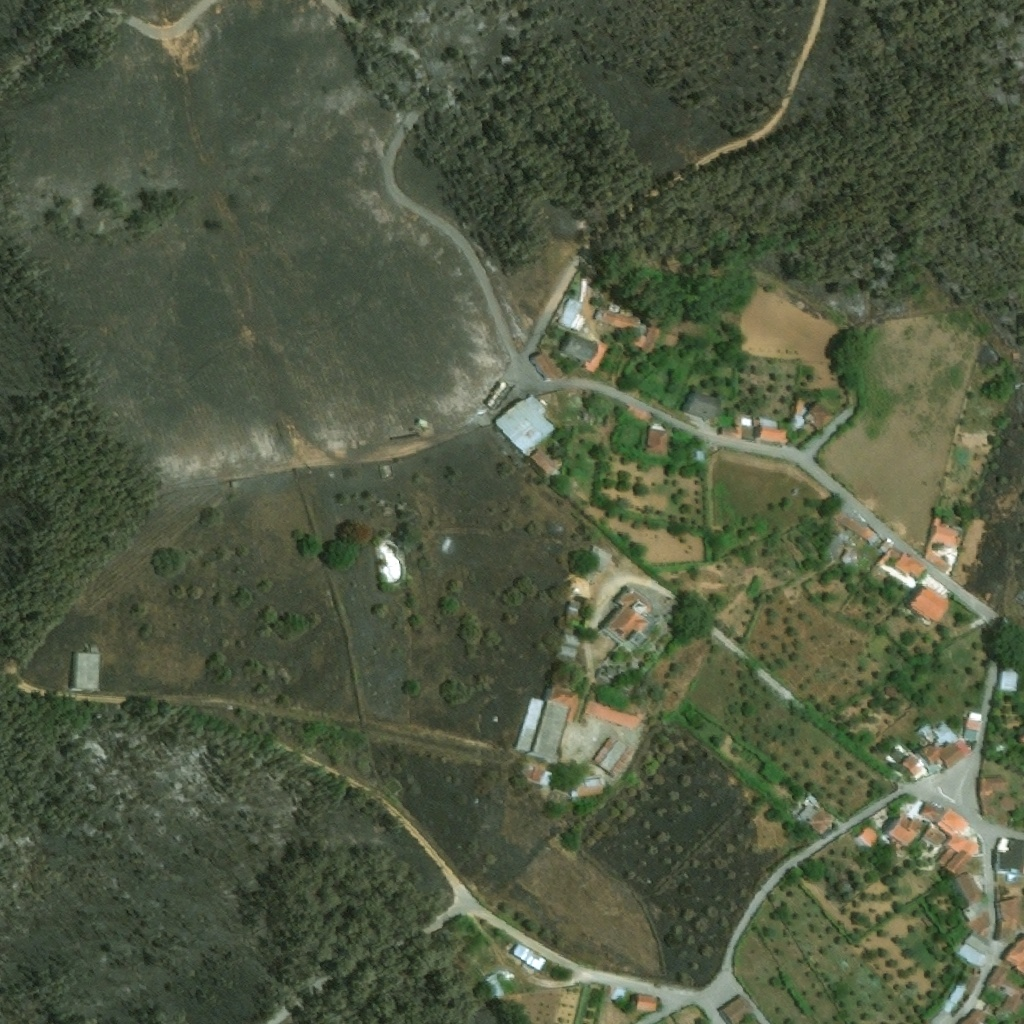0 no-damage: (492, 394, 557, 458), (605, 585, 656, 650), (528, 699, 570, 759), (983, 963, 1023, 1014), (904, 583, 952, 625), (512, 695, 545, 752), (582, 699, 640, 731), (831, 509, 879, 546), (543, 683, 581, 723), (992, 897, 1023, 944), (993, 837, 1023, 883), (68, 652, 102, 692), (558, 331, 599, 364), (886, 813, 923, 848), (681, 392, 723, 422), (554, 297, 587, 334), (509, 941, 547, 972), (661, 321, 706, 347), (581, 543, 613, 576), (527, 447, 561, 478), (944, 831, 982, 858), (578, 340, 608, 374), (954, 871, 984, 905), (934, 807, 968, 837), (598, 740, 628, 774), (802, 402, 834, 433), (920, 541, 949, 574), (719, 995, 753, 1023), (999, 935, 1023, 974), (804, 806, 835, 836), (893, 552, 926, 580), (954, 941, 987, 969), (590, 734, 618, 766), (630, 325, 661, 353), (962, 930, 991, 957), (851, 825, 880, 852), (601, 311, 638, 332), (645, 421, 668, 454), (533, 354, 560, 382), (608, 747, 633, 777), (927, 526, 961, 548), (482, 973, 506, 1002), (915, 722, 942, 747), (932, 722, 959, 746), (962, 899, 989, 923), (942, 852, 969, 876), (916, 801, 944, 824), (716, 418, 743, 441), (941, 744, 964, 770), (752, 427, 787, 444), (997, 666, 1018, 693), (922, 826, 946, 848), (980, 793, 1001, 818), (947, 979, 968, 1004), (976, 776, 1006, 793), (629, 995, 657, 1012), (626, 405, 652, 423), (933, 847, 956, 867), (970, 910, 990, 933), (920, 744, 941, 765), (901, 756, 921, 777), (795, 804, 817, 822), (576, 784, 604, 798), (927, 1008, 951, 1023), (952, 739, 971, 757), (960, 1010, 986, 1023), (529, 767, 547, 785), (939, 997, 956, 1016), (518, 763, 535, 782), (557, 644, 578, 659), (996, 796, 1016, 811), (559, 633, 579, 648), (791, 395, 804, 416), (575, 777, 602, 787), (541, 771, 555, 788), (789, 802, 806, 815), (578, 275, 586, 302), (691, 450, 706, 463), (963, 727, 977, 740), (964, 717, 978, 730), (930, 516, 941, 528), (968, 712, 982, 721), (932, 745, 941, 759), (568, 787, 577, 800), (634, 711, 644, 718), (1012, 352, 1018, 360)
2 major-damage: (593, 667, 641, 695), (570, 578, 590, 603), (564, 608, 580, 627), (562, 624, 577, 636), (567, 601, 582, 611)
3 destroyed: (883, 744, 907, 766), (375, 437, 407, 453), (804, 791, 820, 806), (601, 985, 615, 1001), (612, 988, 626, 1003), (794, 301, 806, 313)
